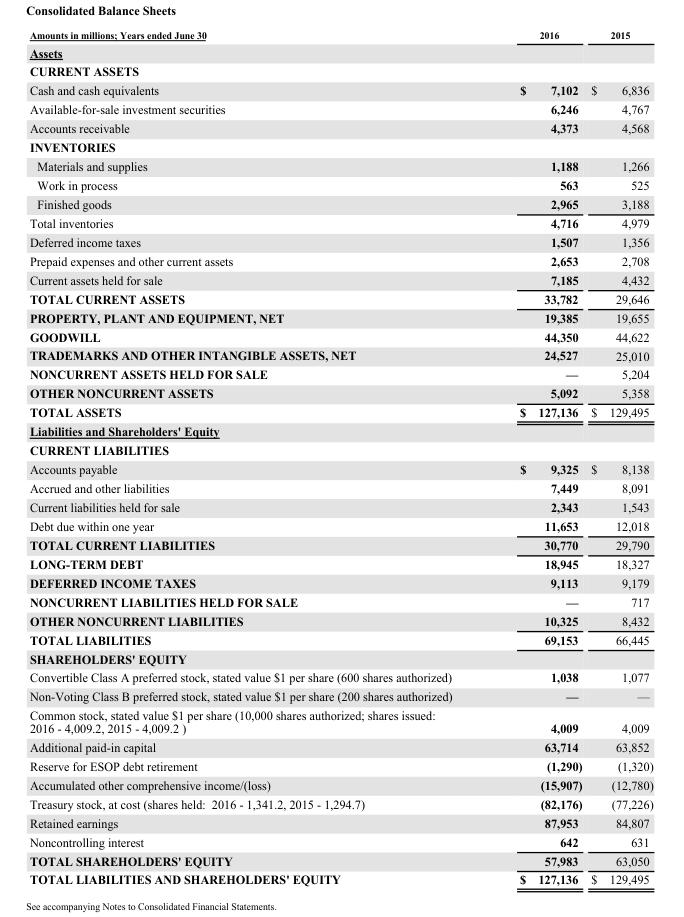table: (28, 29, 652, 886)
table column: (28, 29, 485, 886), (485, 29, 585, 886), (585, 29, 652, 886)
table column header: (28, 29, 652, 42)
table projected row header: (28, 42, 652, 61), (28, 61, 652, 80), (28, 137, 652, 156), (28, 421, 652, 440), (28, 440, 652, 459), (28, 648, 652, 667)
table row: (28, 705, 652, 737), (28, 42, 652, 61), (28, 61, 652, 80), (28, 80, 652, 99), (28, 99, 652, 118), (28, 118, 652, 137), (28, 137, 652, 156), (28, 156, 652, 175), (28, 175, 652, 194), (28, 194, 652, 213), (28, 213, 652, 232), (28, 232, 652, 251), (28, 251, 652, 270), (28, 288, 652, 307), (28, 307, 652, 326), (28, 326, 652, 345), (28, 345, 652, 364), (28, 364, 652, 383), (28, 383, 652, 402), (28, 402, 652, 421), (28, 421, 652, 440), (28, 440, 652, 459), (28, 459, 652, 478), (28, 478, 652, 497), (28, 497, 652, 516), (28, 516, 652, 535), (28, 535, 652, 554), (28, 554, 652, 573), (28, 573, 652, 592), (28, 610, 652, 629), (28, 629, 652, 648), (28, 648, 652, 667), (28, 667, 652, 686), (28, 686, 652, 705), (28, 737, 652, 756), (28, 756, 652, 775), (28, 793, 652, 812), (28, 812, 652, 831), (28, 831, 652, 850), (28, 850, 652, 869), (28, 270, 652, 288), (28, 592, 652, 610), (28, 775, 652, 793), (28, 869, 652, 886), (28, 29, 652, 42)
